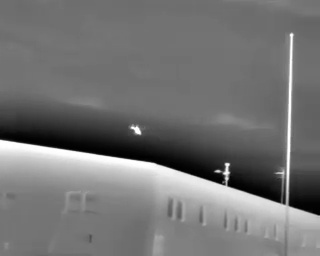HELICOPTER: (126, 120, 151, 140)
